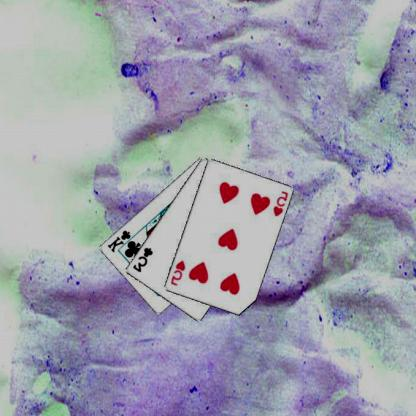3C: (132, 244, 155, 274)
5H: (272, 188, 291, 218), (169, 258, 188, 287)
KC: (107, 228, 138, 254)
